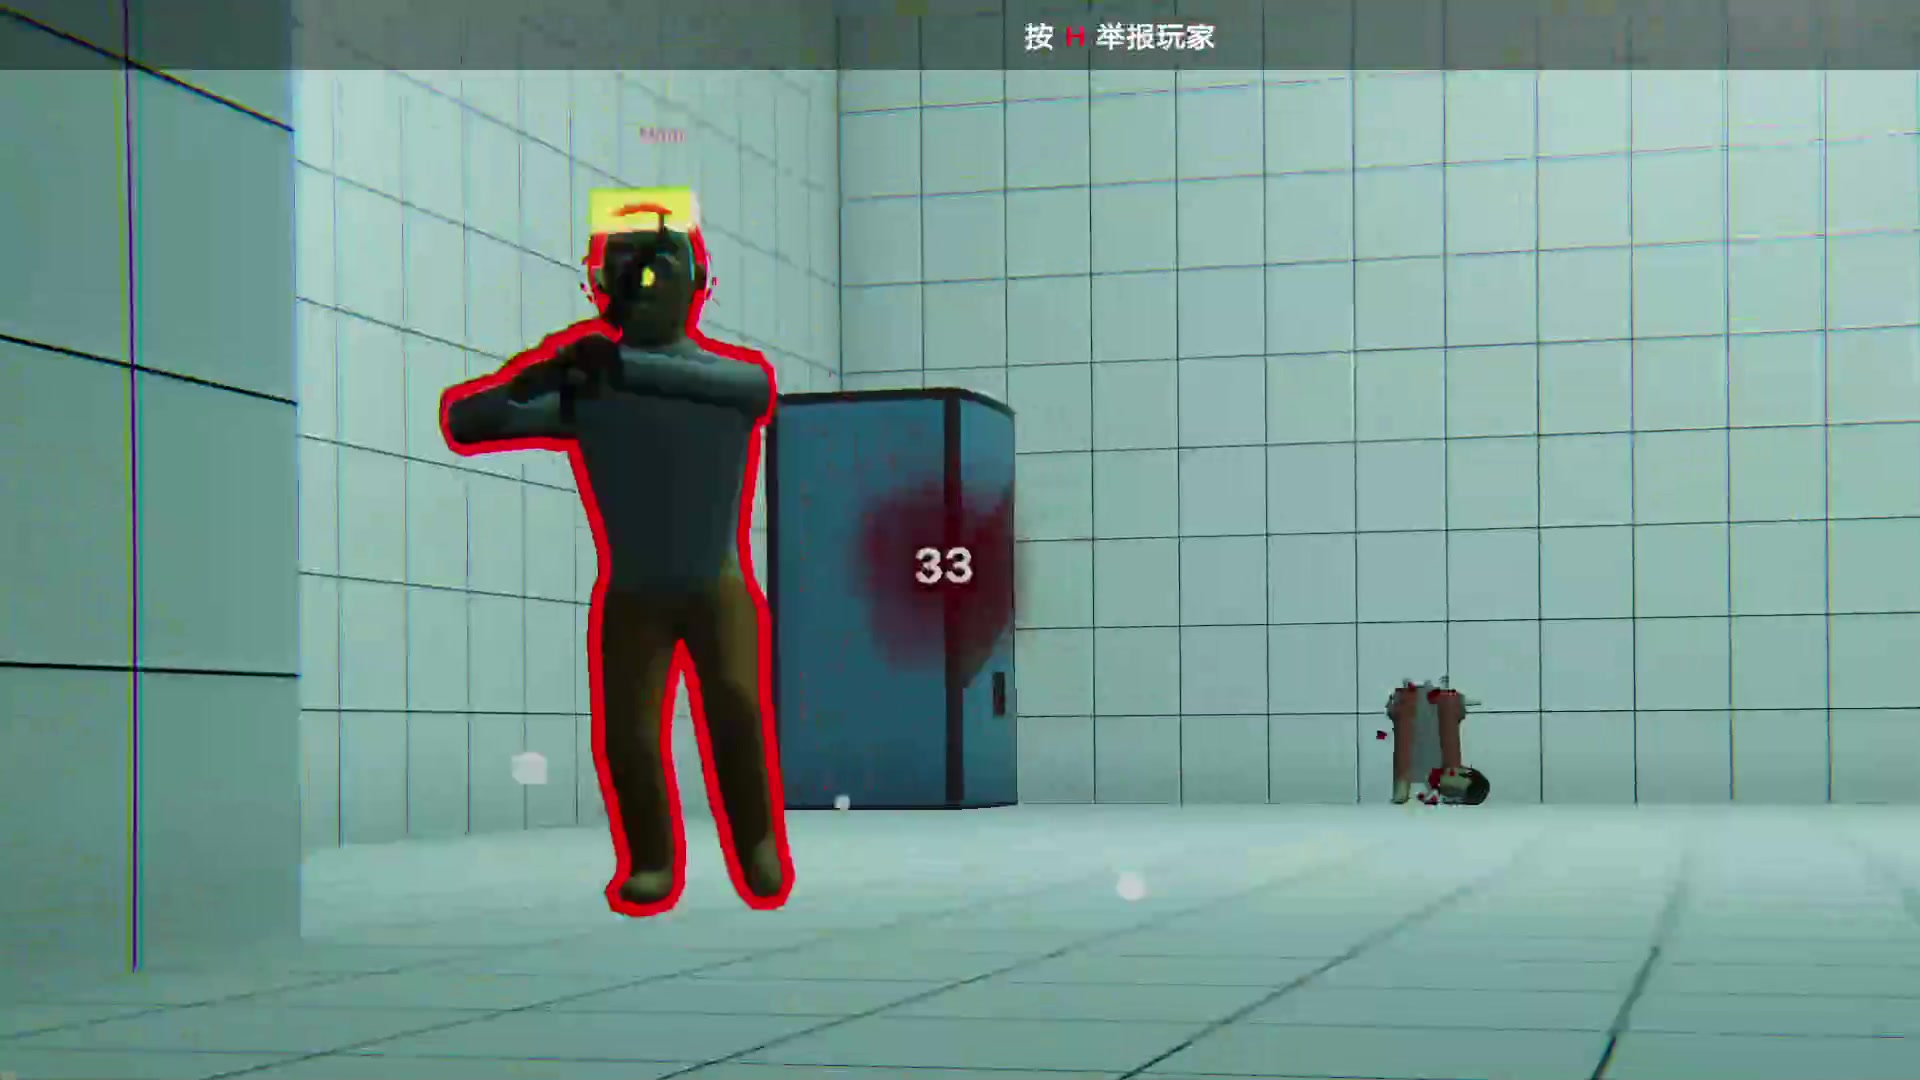died: (1389, 674, 1480, 816)
human: (550, 233, 794, 903)
